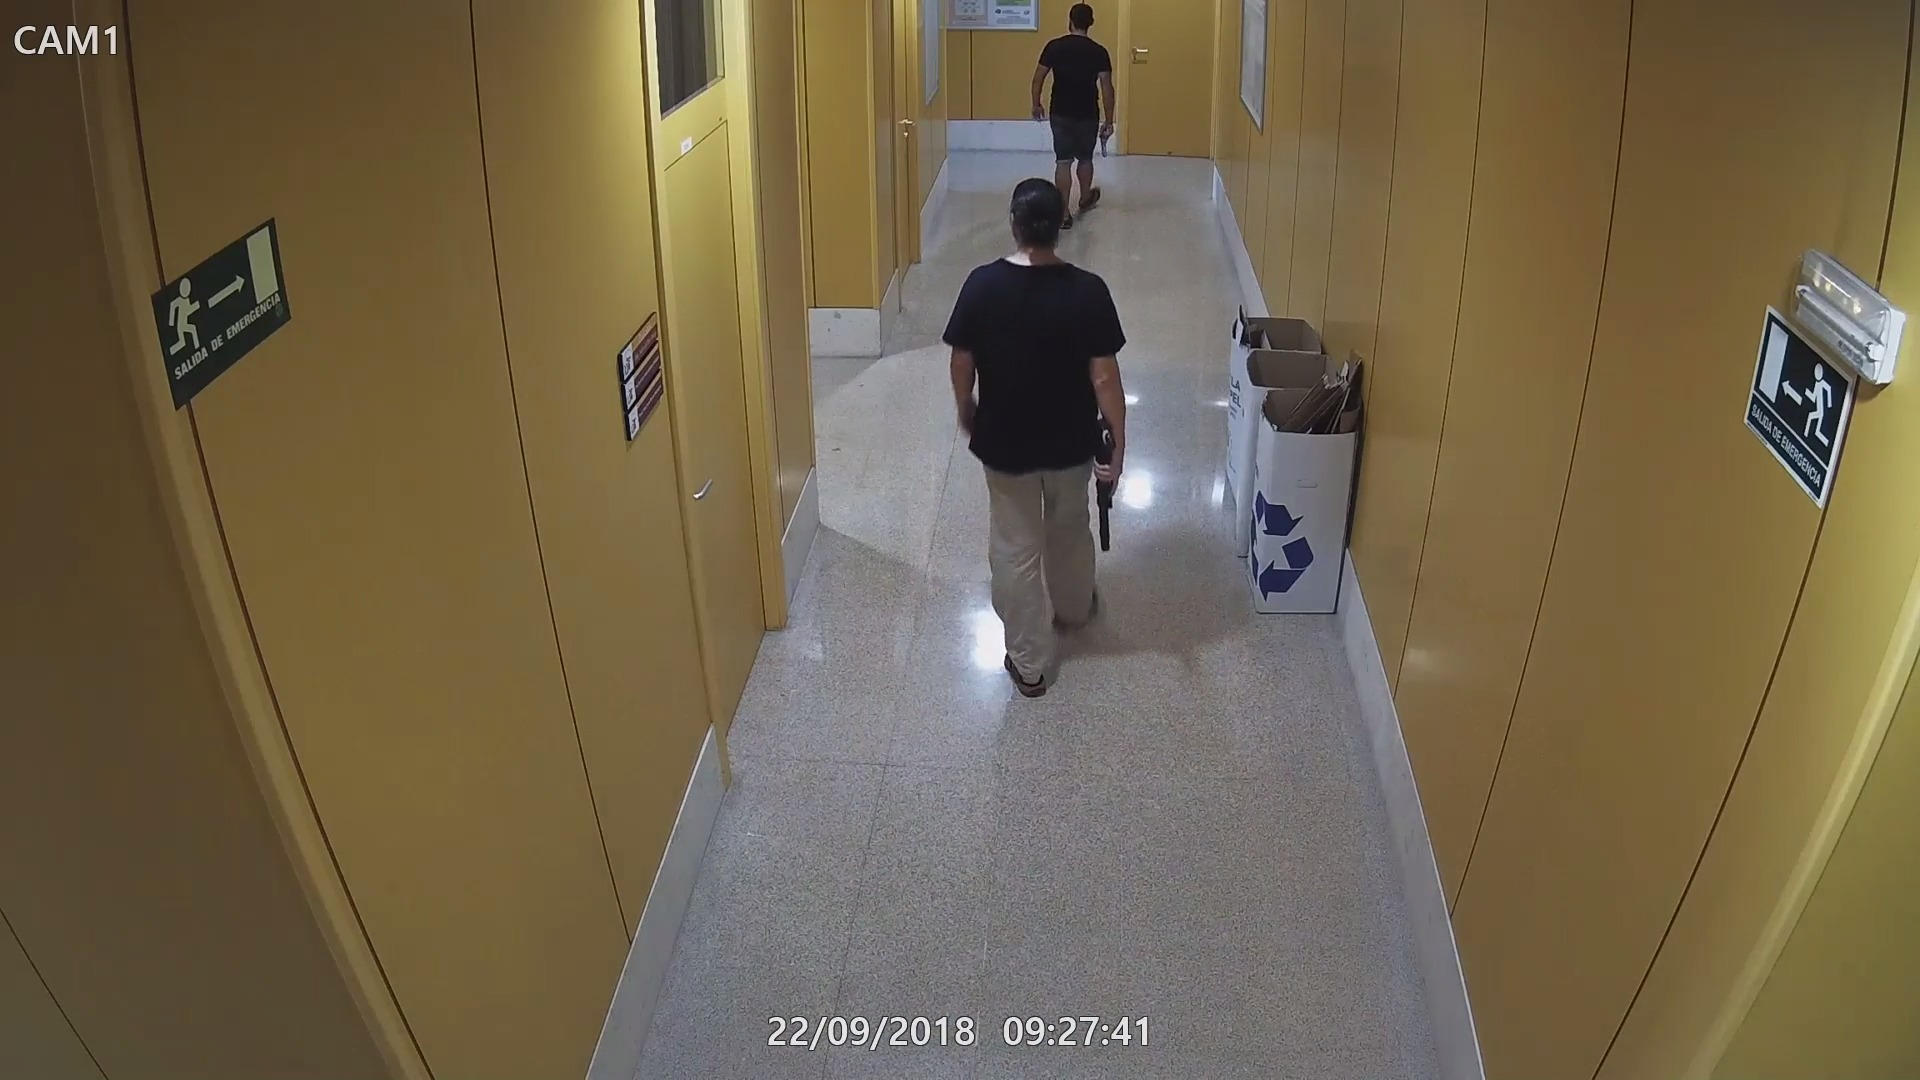Handgun: (1095, 120, 1121, 160)
Short_rifle: (1095, 415, 1120, 555)
